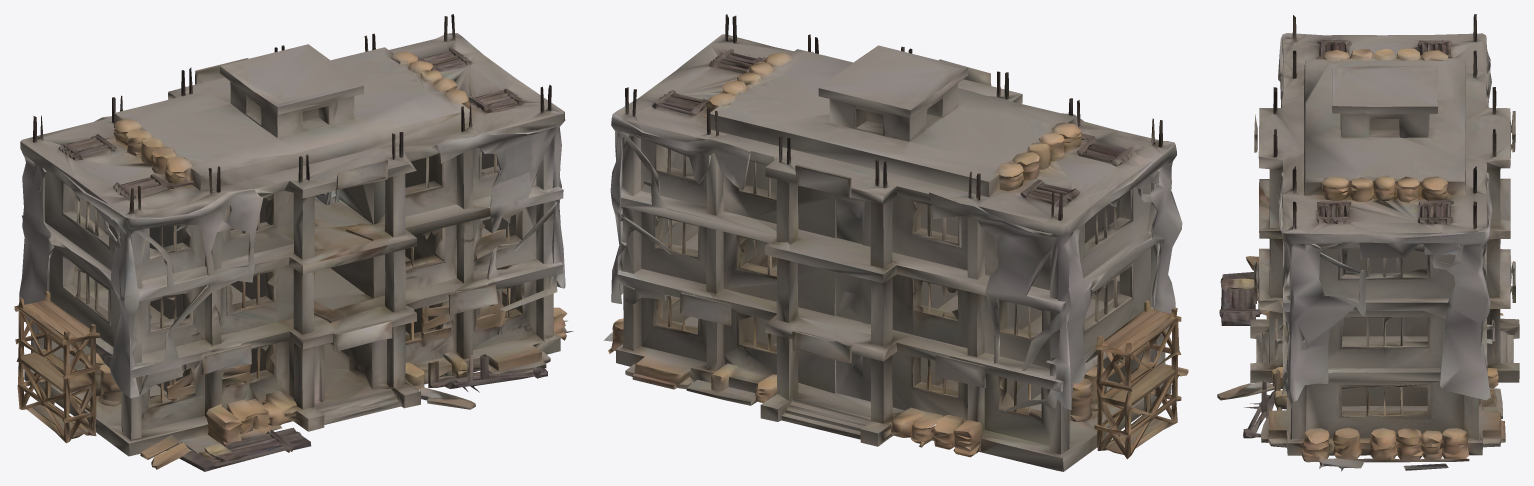
File: building_ruin_2_idle.glb
The picture shows the model from 3 angles, left to right: view 1: azimuth 30°, elevation 25°; view 2: azimuth 150°, elevation 25°; view 3: azimuth 270°, elevation 25°; orthographic projection. The views are drawn at different scales.
Parts seen in each view (by area): view 1: tripo_node_90d1841b-be3d-4549-89b5-da7e92924844; view 2: tripo_node_90d1841b-be3d-4549-89b5-da7e92924844; view 3: tripo_node_90d1841b-be3d-4549-89b5-da7e92924844.
Part boxes in pixels (x1=…): tripo_node_90d1841b-be3d-4549-89b5-da7e92924844: x1=14, y1=14, x2=573, y2=471; tripo_node_90d1841b-be3d-4549-89b5-da7e92924844: x1=604, y1=14, x2=1188, y2=471; tripo_node_90d1841b-be3d-4549-89b5-da7e92924844: x1=1217, y1=14, x2=1519, y2=471.
Bounding box in the file's own units: 14 × 7.7 × 7.76.
1 material, 1 textured.
